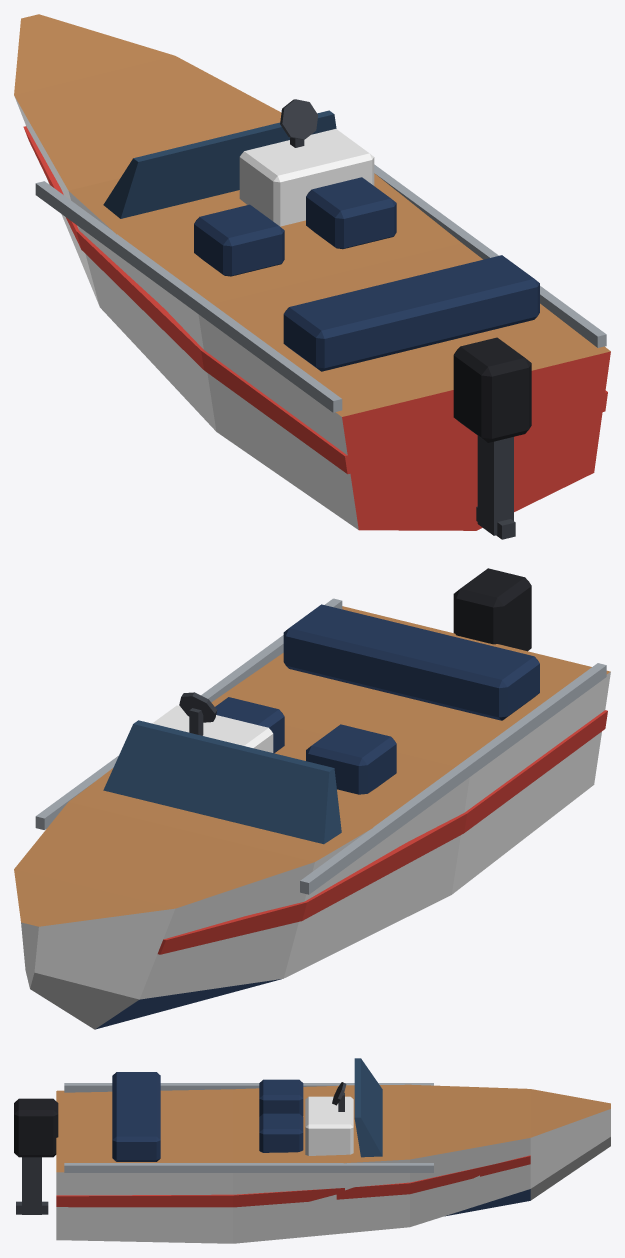
File: Boat_Speedboat.glb
The picture shows the model from 3 angles, top to bottom: view 1: azimuth 30°, elevation 25°; view 2: azimuth 150°, elevation 25°; view 3: azimuth 270°, elevation 25°; orthographic projection. The views are drawn at different scales.
Parts seen in each view (by area): view 1: Boat_Speedboat_Hull, Boat_Speedboat_Motor; view 2: Boat_Speedboat_Hull, Boat_Speedboat_Motor; view 3: Boat_Speedboat_Hull, Boat_Speedboat_Motor.
Part boxes in pixels (x1,y1,x2,y2): Boat_Speedboat_Hull: [14, 14, 610, 530]; Boat_Speedboat_Motor: [453, 337, 531, 539]; Boat_Speedboat_Hull: [14, 598, 610, 1029]; Boat_Speedboat_Motor: [453, 568, 531, 651]; Boat_Speedboat_Hull: [56, 1058, 610, 1243]; Boat_Speedboat_Motor: [14, 1098, 58, 1214].
Bounding box in the file's own units: 2.44 × 2.21 × 7.43.
1 material, 1 textured.
